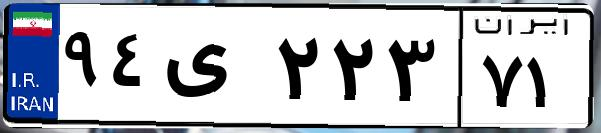1: (525, 38, 570, 115)
2: (270, 28, 330, 110), (330, 28, 385, 110)
3: (385, 28, 445, 110)
4: (110, 28, 158, 98)
7: (475, 38, 525, 113)
9: (57, 26, 110, 100)
ی: (158, 20, 270, 120)
